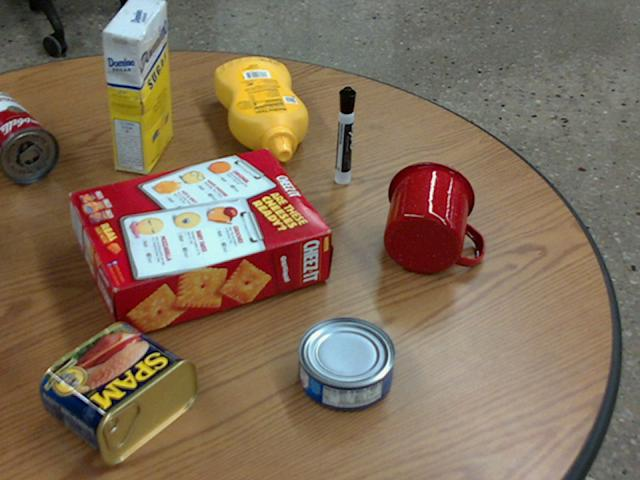cracker_box: (72, 149, 331, 338)
large_marker: (335, 86, 355, 183)
mug: (385, 161, 485, 273)
mustard_bottle: (214, 57, 307, 160)
potted_meat_can: (37, 320, 196, 464)
sugar_box: (103, 0, 172, 173)
tomato_soup_can: (0, 91, 59, 181)
tuna_fish_can: (297, 317, 395, 410)
